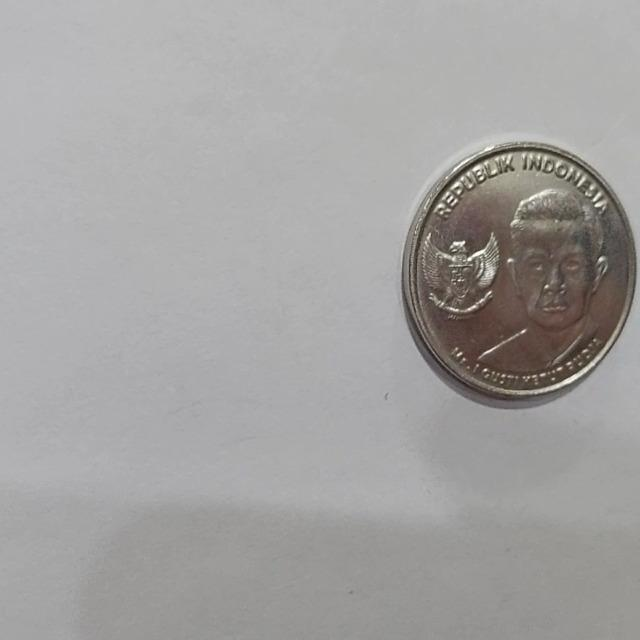Rp100: (401, 139, 637, 406)
